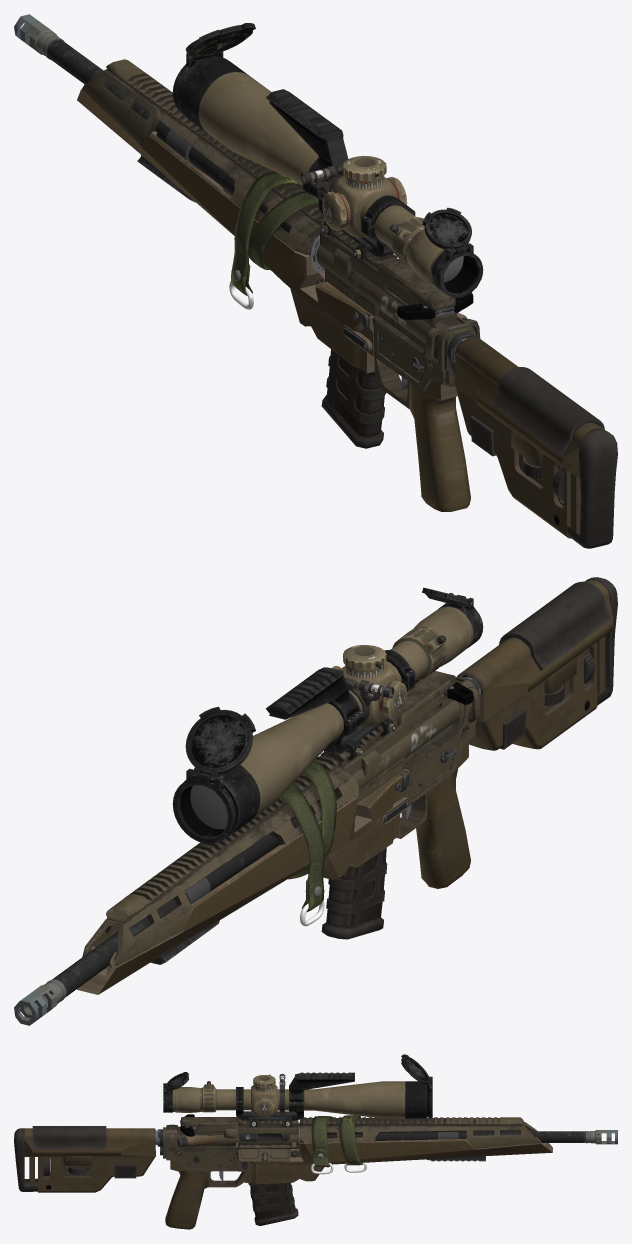
The model's file is af-sniper.glb.
The picture shows the model from 3 angles, top to bottom: view 1: azimuth 30°, elevation 25°; view 2: azimuth 150°, elevation 25°; view 3: azimuth 270°, elevation 25°; orthographic projection. The views are drawn at different scales.
Parts seen in each view (by area): view 1: Cylinder.089, Cube.053, Cylinder.076, Cube.046, Cube.055, Cube.049, Cube.043, Cube.045, Cube.041, Cylinder.090, Cylinder.078, Cube.039 (+9 smaller); view 2: Cylinder.089, Cube.053, Cube.055, Cylinder.076, Cube.043, Cube.041, Cylinder.078, Cube.045, Cube.046, Cylinder.090, Cube.054, Cube.049 (+8 smaller); view 3: Cylinder.089, Cube.053, Cube.055, Cube.041, Cube.043, Cube.049, Cylinder.076, Cylinder.078, Cube.046, Cylinder.090, Cube.045, Cube.054 (+15 smaller).
Part boxes in pixels (x1=…): Cylinder.089: x1=172, y1=51, x2=483, y2=297; Cube.053: x1=77, y1=89, x2=378, y2=373; Cylinder.076: x1=316, y1=231, x2=456, y2=349; Cube.046: x1=409, y1=379, x2=470, y2=511; Cube.055: x1=82, y1=69, x2=321, y2=254; Cube.049: x1=372, y1=316, x2=480, y2=408; Cube.043: x1=455, y1=337, x2=603, y2=532; Cube.045: x1=490, y1=367, x2=604, y2=455; Cube.041: x1=455, y1=387, x2=580, y2=538; Cylinder.090: x1=266, y1=89, x2=415, y2=256; Cylinder.078: x1=14, y1=14, x2=324, y2=273; Cube.039: x1=567, y1=428, x2=617, y2=548; Cylinder.089: x1=172, y1=593, x2=483, y2=843; Cube.053: x1=77, y1=769, x2=409, y2=994; Cube.055: x1=82, y1=766, x2=358, y2=966; Cylinder.076: x1=339, y1=671, x2=460, y2=803; Cube.043: x1=457, y1=580, x2=613, y2=722; Cube.041: x1=469, y1=642, x2=597, y2=750; Cylinder.078: x1=14, y1=792, x2=337, y2=1025; Cube.045: x1=499, y1=581, x2=613, y2=670; Cube.046: x1=416, y1=741, x2=470, y2=888; Cylinder.090: x1=265, y1=650, x2=415, y2=753; Cube.054: x1=321, y1=847, x2=387, y2=939; Cube.049: x1=396, y1=677, x2=480, y2=838; Cylinder.089: x1=163, y1=1076, x2=432, y2=1118; Cube.053: x1=238, y1=1136, x2=552, y2=1183; Cube.055: x1=299, y1=1121, x2=540, y2=1148; Cube.041: x1=38, y1=1150, x2=155, y2=1192; Cube.043: x1=24, y1=1128, x2=155, y2=1186; Cube.049: x1=163, y1=1124, x2=244, y2=1187; Cylinder.076: x1=181, y1=1117, x2=298, y2=1150; Cylinder.078: x1=298, y1=1126, x2=617, y2=1149; Cube.046: x1=165, y1=1160, x2=208, y2=1229; Cylinder.090: x1=236, y1=1072, x2=354, y2=1120; Cube.045: x1=32, y1=1126, x2=106, y2=1149; Cube.054: x1=248, y1=1183, x2=298, y2=1225.
Size of the model in its own units: 1.52 by 5.25 by 16.97.
4 materials, 2 textured.
